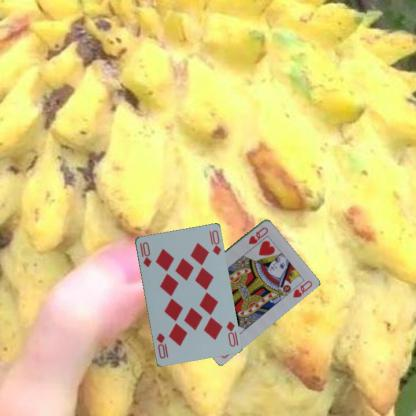10d: (137, 239, 154, 268), (223, 318, 237, 348)
Qh: (246, 224, 269, 246)
